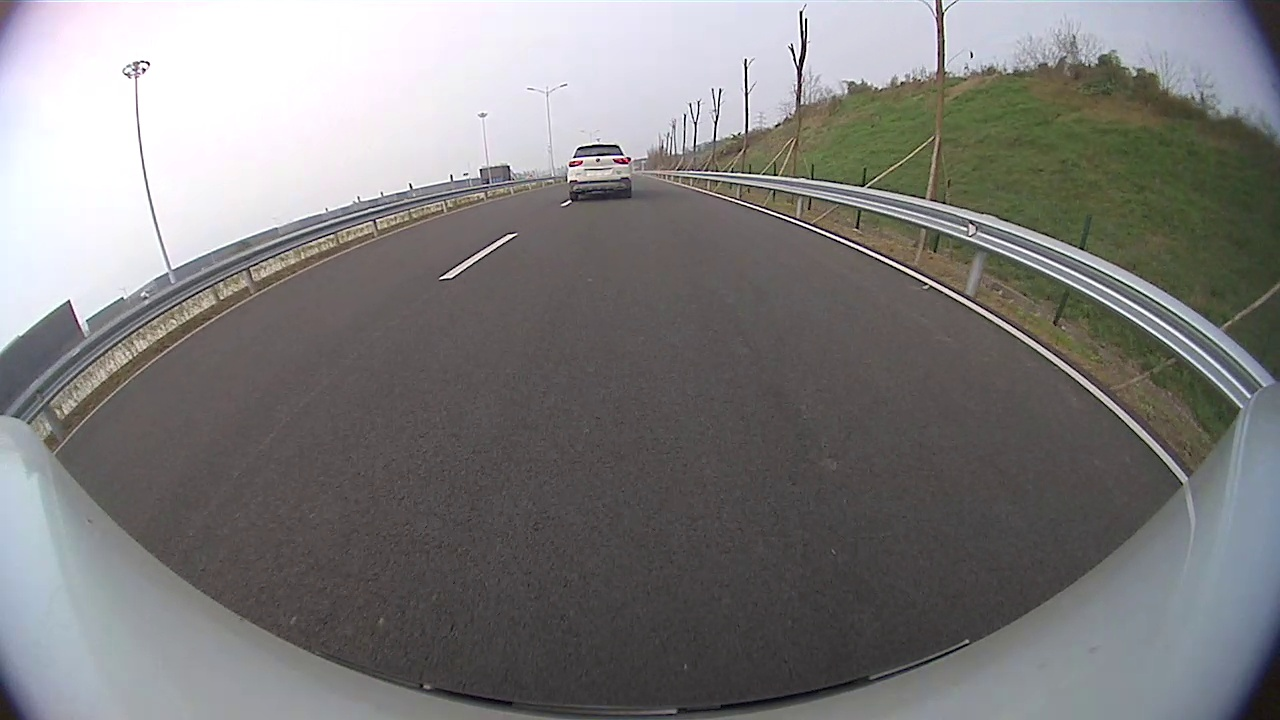car: (568, 141, 634, 206)
